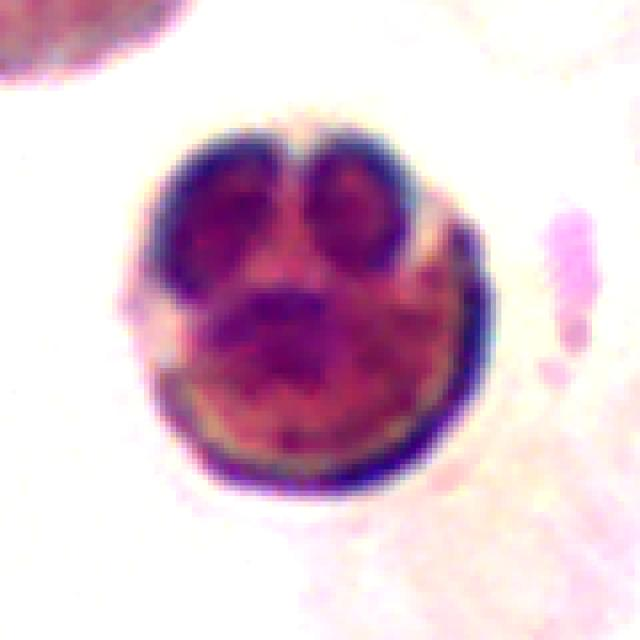WBC: (96, 101, 517, 523)
